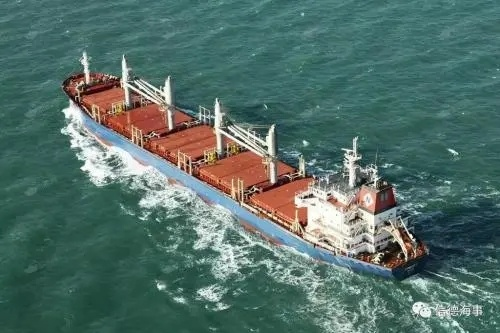Cargoship: (63, 48, 433, 280)
